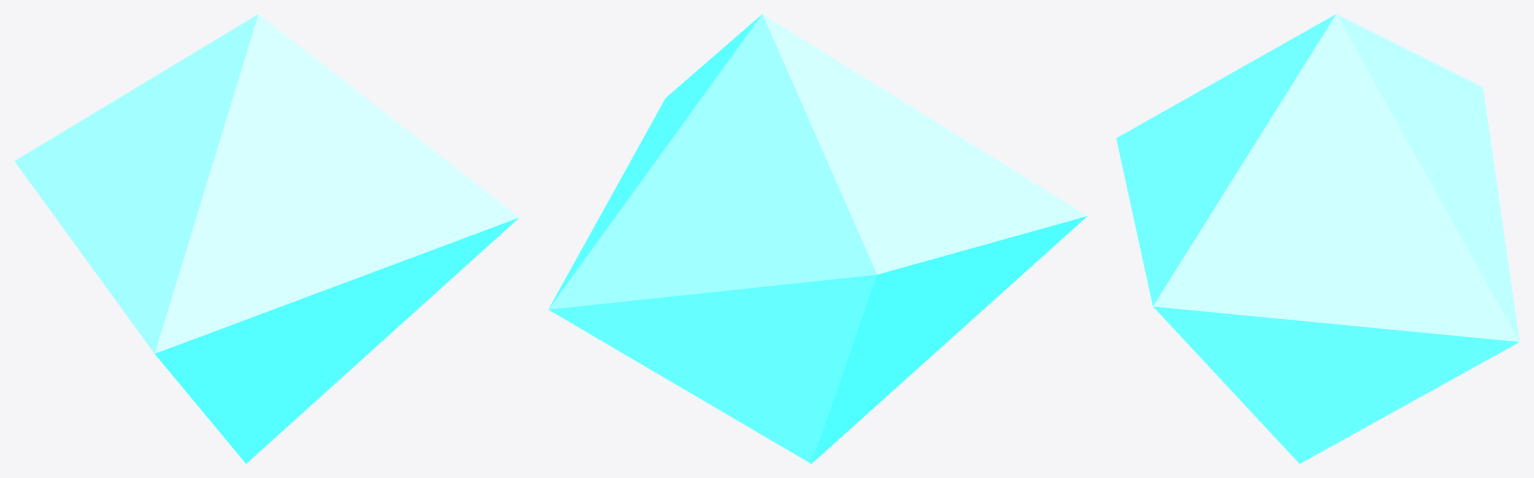
File: Mesh_Voxel_03.glb
The picture shows the model from 3 angles, left to right: view 1: azimuth 30°, elevation 25°; view 2: azimuth 150°, elevation 25°; view 3: azimuth 270°, elevation 25°; orthographic projection. The views are drawn at different scales.
Visible parts, largest first — view 1: Mesh_Voxel_03; view 2: Mesh_Voxel_03; view 3: Mesh_Voxel_03.
Boxes of the visible parts, x1=… form: Mesh_Voxel_03: x1=14, y1=14, x2=519, y2=463; Mesh_Voxel_03: x1=548, y1=14, x2=1087, y2=463; Mesh_Voxel_03: x1=1116, y1=14, x2=1519, y2=463.
Size of the model in its own units: 0.13 by 0.14 by 0.11.
